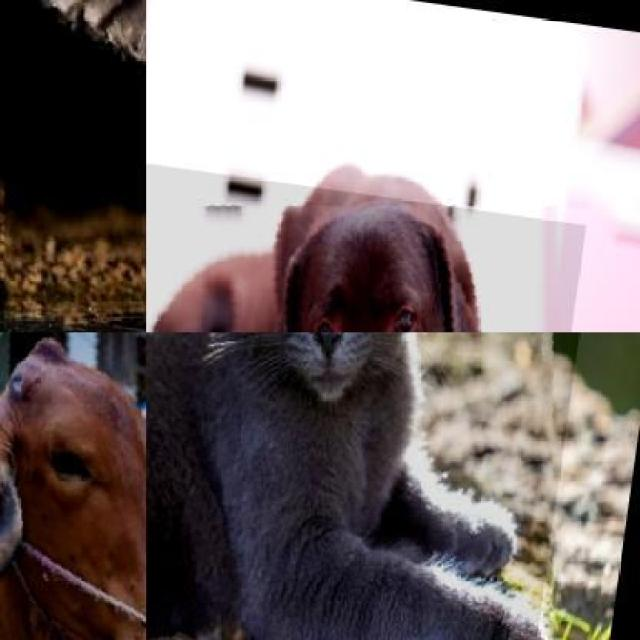buffalo: (0, 0, 146, 332)
cat: (146, 332, 611, 640)
cow: (0, 332, 146, 640)
dog: (146, 160, 585, 332)
